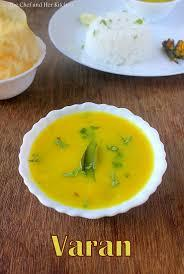rice: (91, 11, 155, 71)
varan: (27, 109, 166, 219)
